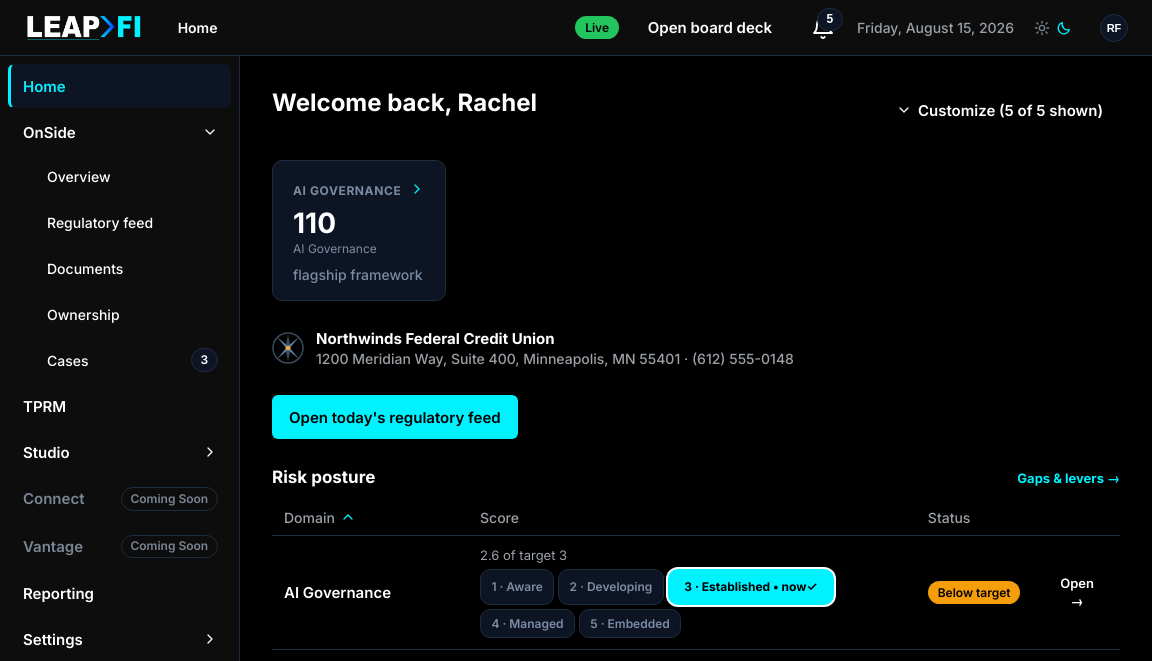
call-19 — "Cases" nav button returns to the cases list › navigating to Cases from Home lands on the cases list (baseline, not itself the bug)
The width and height of the screenshot is (1152, 661).
Click the button "Cases 3" at (120, 360), box [8,338,231,382]
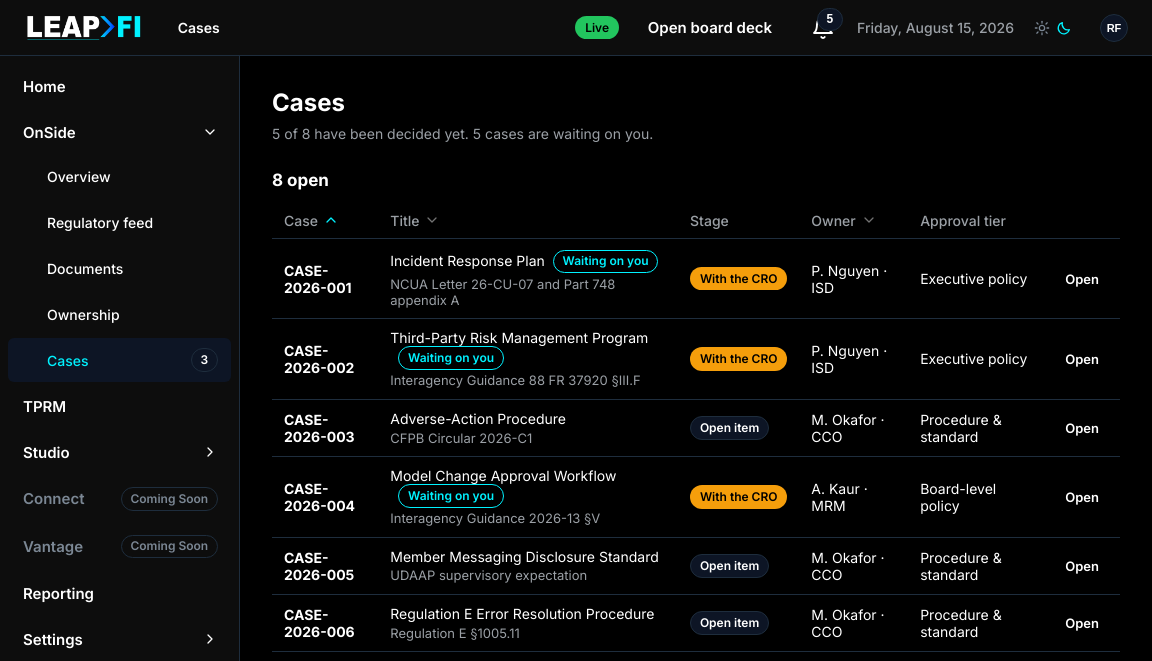
Now the heading "Cases" is shown, box [272,88,345,117]
